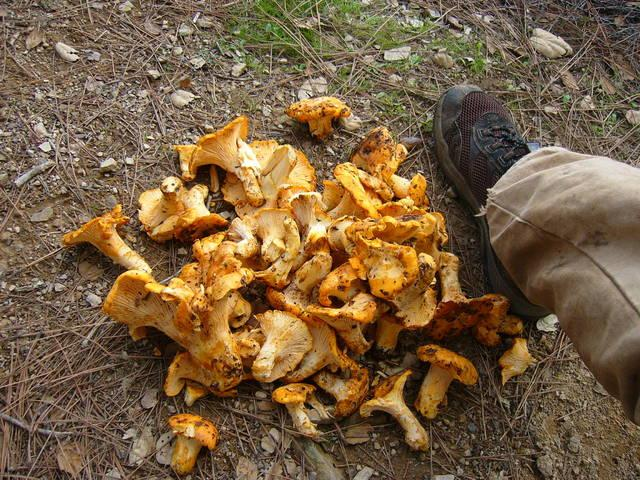edible_mushroom: (145, 130, 433, 411), (166, 412, 219, 475)
